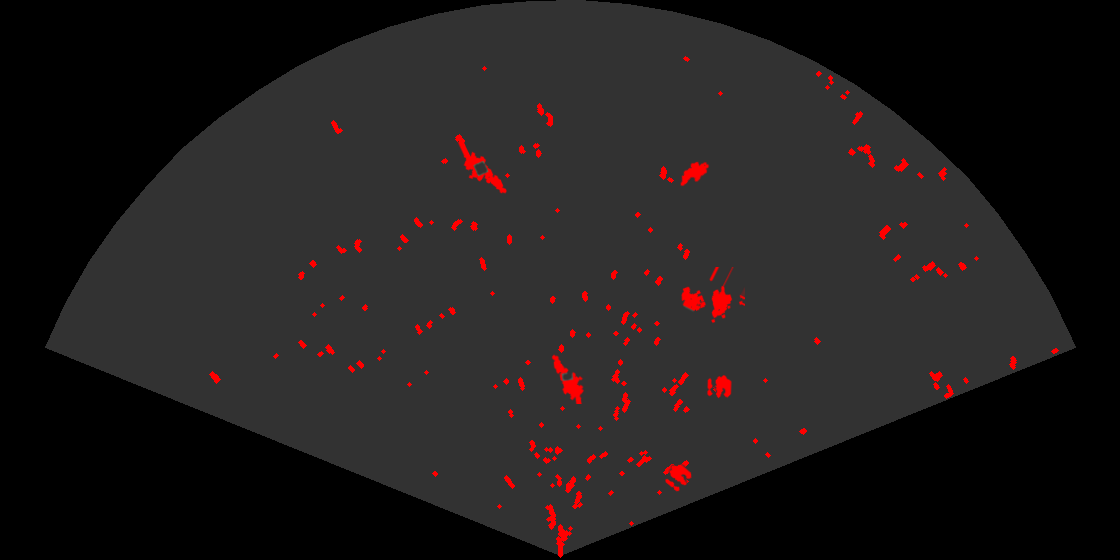AUV: (679, 160, 711, 188)
ball: (664, 463, 693, 493), (706, 374, 733, 400)
cage: (680, 267, 745, 324)
frogman: (456, 142, 508, 195), (550, 352, 586, 404)
